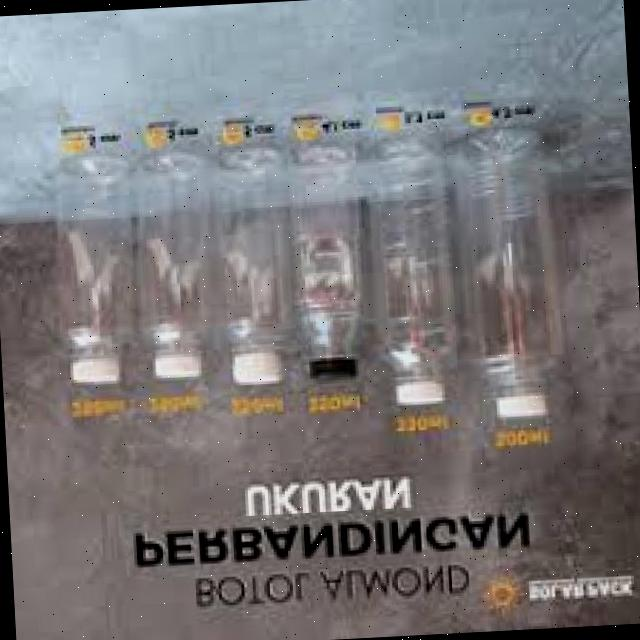bottle: (198, 110, 314, 396), (282, 130, 378, 392)
cap: (146, 336, 213, 381), (490, 384, 558, 426), (392, 373, 454, 408), (230, 349, 285, 388), (70, 352, 131, 384), (310, 355, 360, 392)
